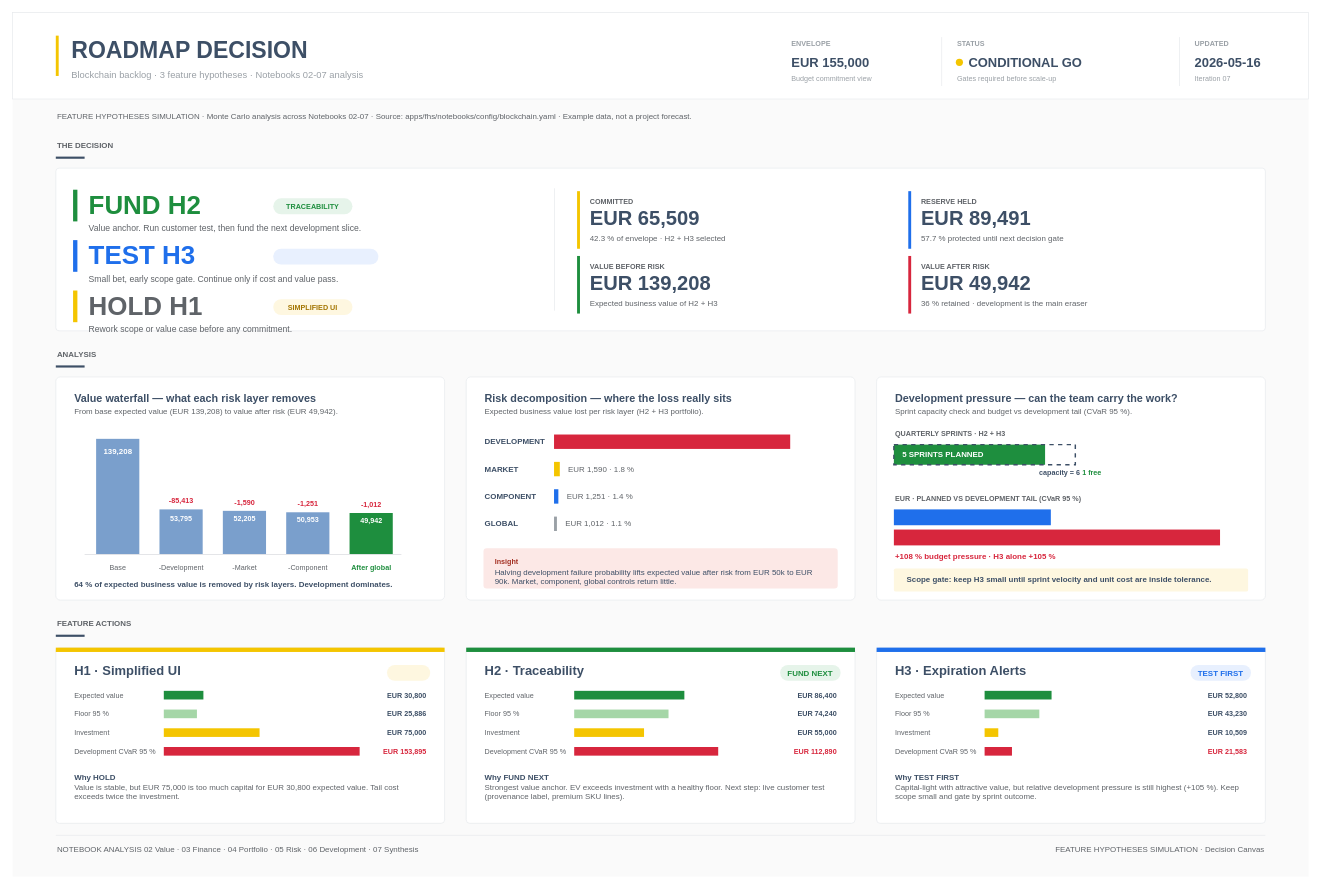
This 1321x889 diagram has some shape labels left out. Each missing label, with the centre of its shape:
EUR 136,007 development CVaR 95 %: (x=1057, y=537)
EUR 65,509 planned: (x=972, y=517)
EUR 85,413 · 95.7 %: (x=672, y=441)
EXPIRATION ALERTS: (x=325, y=256)
HOLD: (x=408, y=672)
